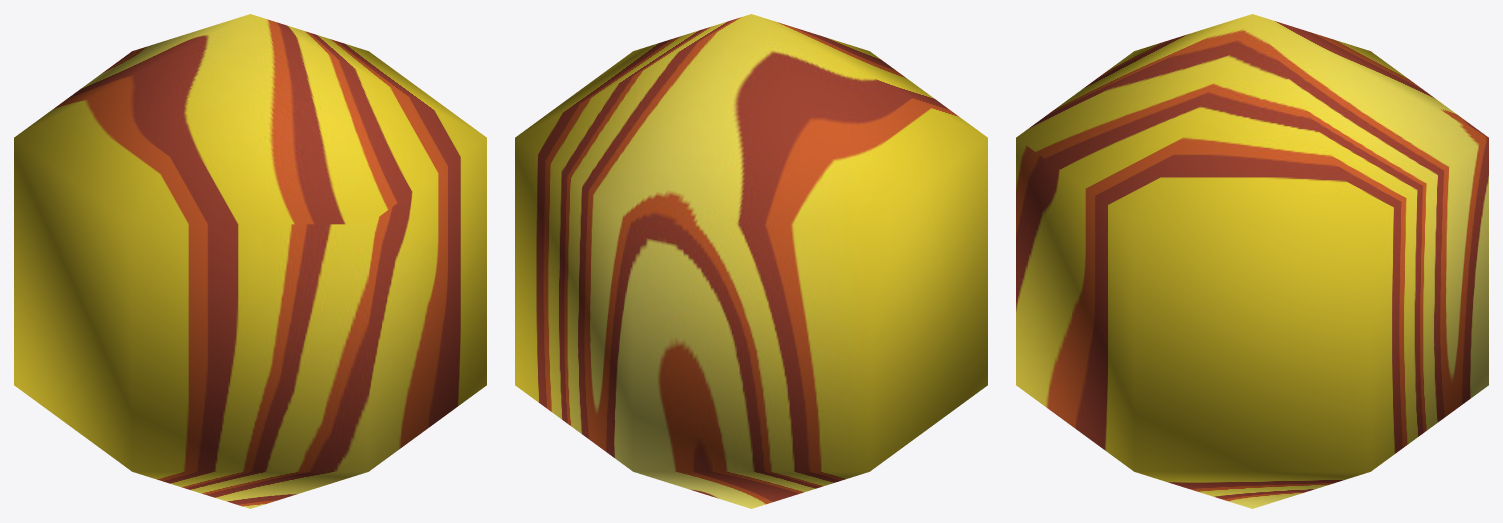
Rendered from sunmarble_shooter.DAE.
3 renders of one model, left to right at view 1: azimuth 30°, elevation 25°; view 2: azimuth 150°, elevation 25°; view 3: azimuth 270°, elevation 25°, orthographic.
Parts seen in each view (by area): view 1: Shooter_A; view 2: Shooter_A; view 3: Shooter_A.
Boxes of the visible parts, x1,y1,x2,y2 form: Shooter_A: [14, 14, 486, 508]; Shooter_A: [515, 14, 987, 508]; Shooter_A: [1016, 14, 1488, 508].
Size of the model in its own units: 0.0381 by 0.044 by 0.0508.
Materials: 1 (1 with a texture image).
